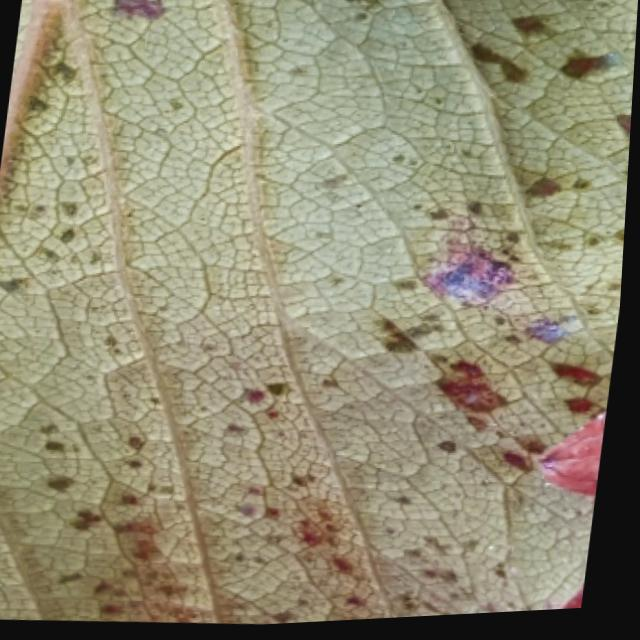Angular Leafspot: (0, 0, 639, 627)
